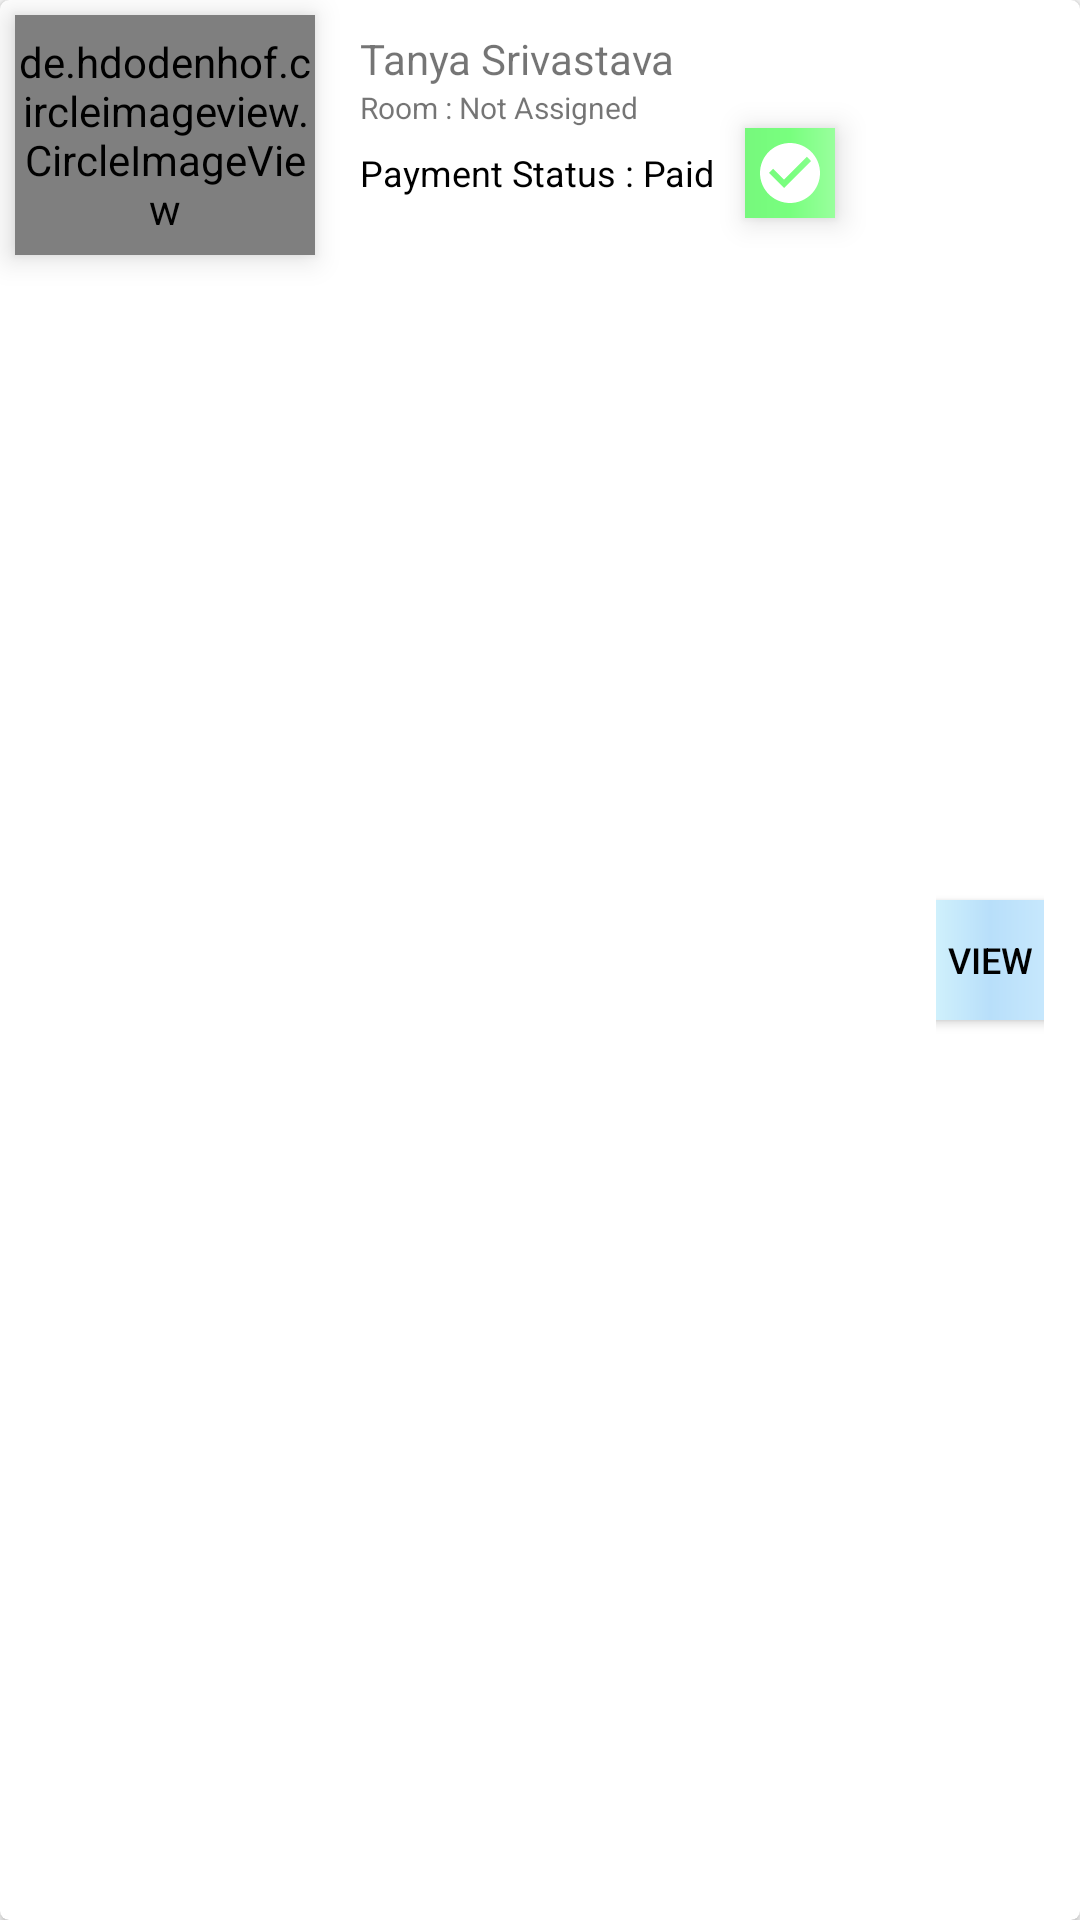

Screen size 1080px x 1920px. Icon name, then its center in pixels as (x,y):
check circle: (790,173)
